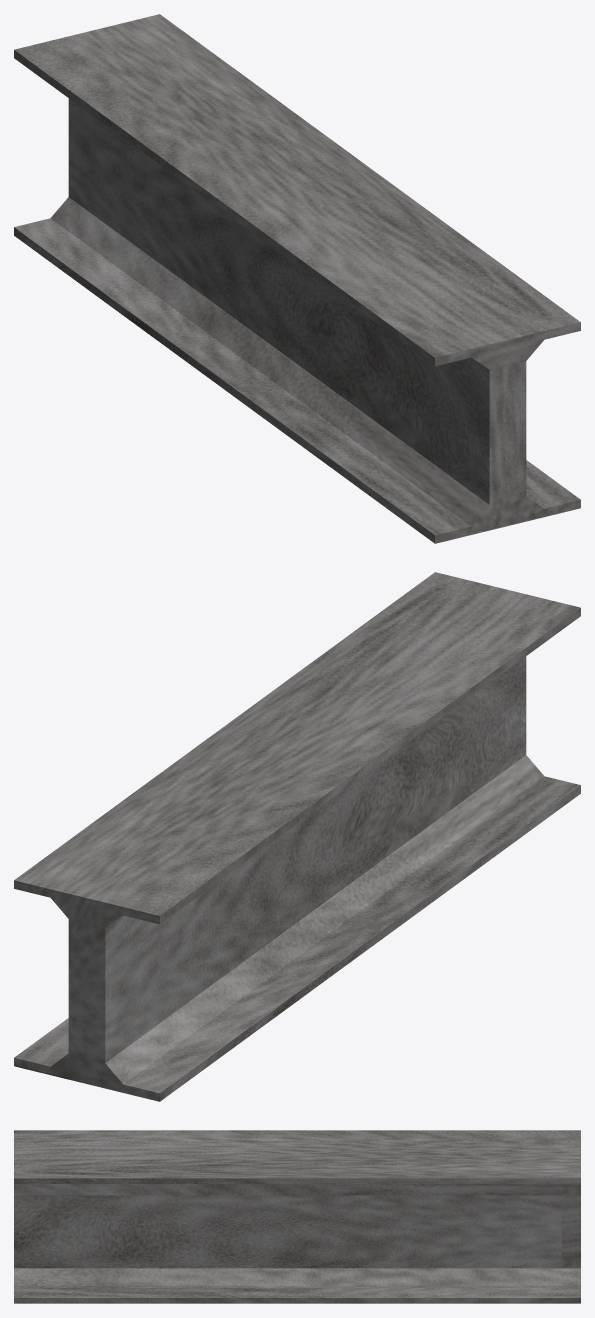
File: Structure.fbx
3 views of the same model, one above another, from view 1: azimuth 30°, elevation 25°; view 2: azimuth 150°, elevation 25°; view 3: azimuth 270°, elevation 25° (orthographic). The views are drawn at different scales.
Visible parts, largest first — view 1: Structure; view 2: Structure; view 3: Structure.
Boxes of the visible parts, x1,y1,x2,y2 form: Structure: (14,14,580,543); Structure: (14,572,580,1101); Structure: (14,1130,580,1303).
Bounding box in the file's own units: 160 × 195 × 800.
